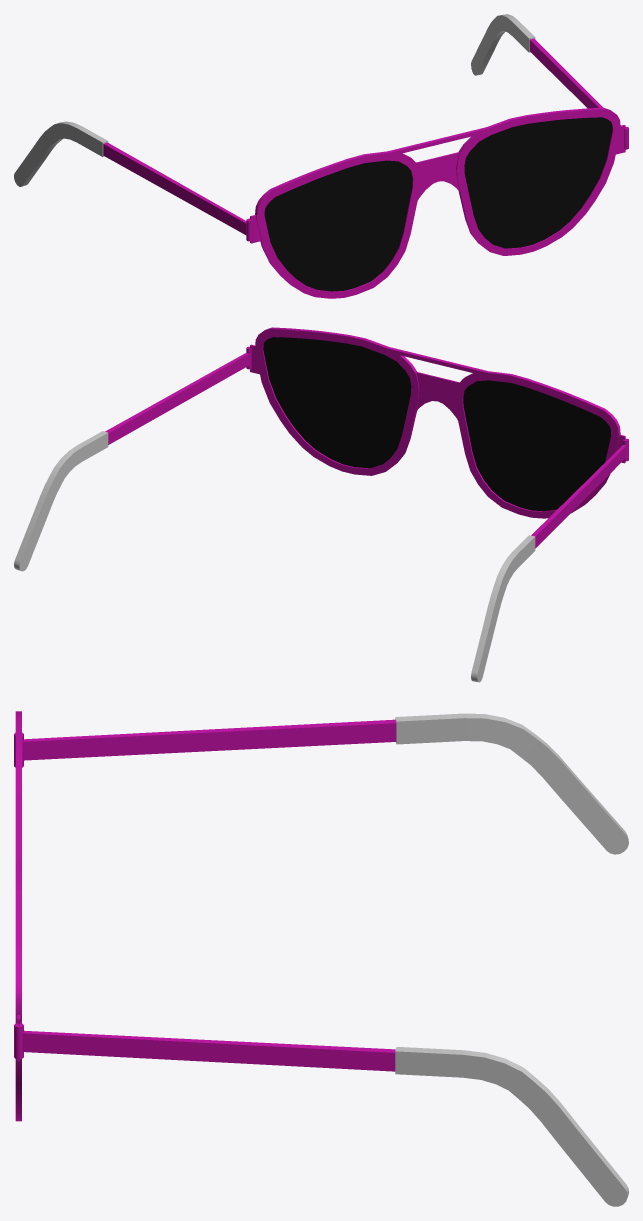
File: glasses4.001.obj
The picture shows the model from 3 angles, top to bottom: view 1: azimuth 30°, elevation 25°; view 2: azimuth 150°, elevation 25°; view 3: azimuth 270°, elevation 25°; orthographic projection. The views are drawn at different scales.
Parts seen in each view (by area): view 1: glasses4.001_glasses4.001_Material.019, glasses4.001_glasses4.001_Material.018, glasses4.001_glasses4.001_black; view 2: glasses4.001_glasses4.001_Material.019, glasses4.001_glasses4.001_Material.018, glasses4.001_glasses4.001_black; view 3: glasses4.001_glasses4.001_Material.018, glasses4.001_glasses4.001_black.
Part boxes in pixels (x1=…): glasses4.001_glasses4.001_Material.019: x1=264, y1=117, x2=612, y2=291; glasses4.001_glasses4.001_Material.018: x1=103, y1=38, x2=628, y2=298; glasses4.001_glasses4.001_black: x1=14, y1=14, x2=535, y2=186; glasses4.001_glasses4.001_Material.019: x1=263, y1=337, x2=610, y2=511; glasses4.001_glasses4.001_Material.018: x1=105, y1=327, x2=628, y2=548; glasses4.001_glasses4.001_black: x1=14, y1=431, x2=535, y2=682; glasses4.001_glasses4.001_Material.018: x1=14, y1=711, x2=396, y2=1121; glasses4.001_glasses4.001_black: x1=395, y1=713, x2=628, y2=1206.
Bounding box in the file's own units: 2.02 × 0.5718 × 1.47.
